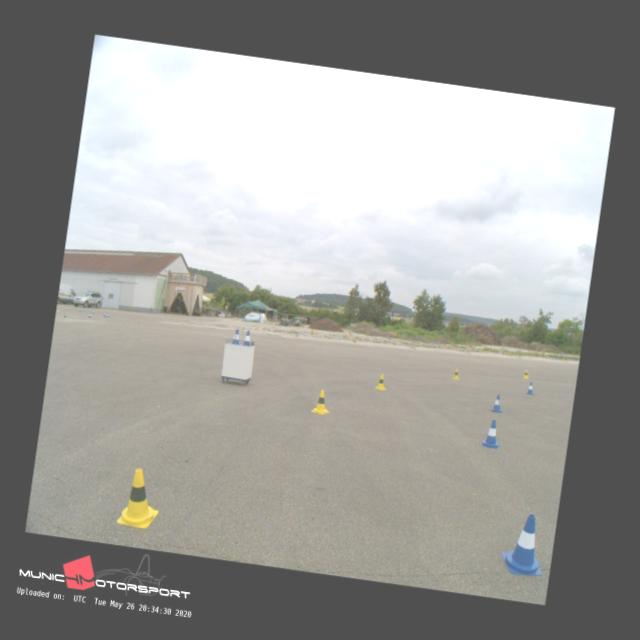blue_cone: (499, 511, 550, 576), (482, 418, 502, 448), (491, 394, 503, 412), (230, 328, 242, 344), (242, 330, 254, 346), (526, 380, 534, 394), (64, 312, 68, 318), (104, 312, 108, 318), (88, 313, 92, 318), (102, 312, 106, 316), (79, 308, 82, 313), (108, 312, 110, 318), (93, 310, 95, 314)
yellow_cone: (116, 466, 164, 529), (310, 388, 332, 416), (375, 374, 388, 391), (452, 367, 460, 380), (522, 368, 530, 379), (64, 308, 68, 314), (57, 307, 60, 312)
